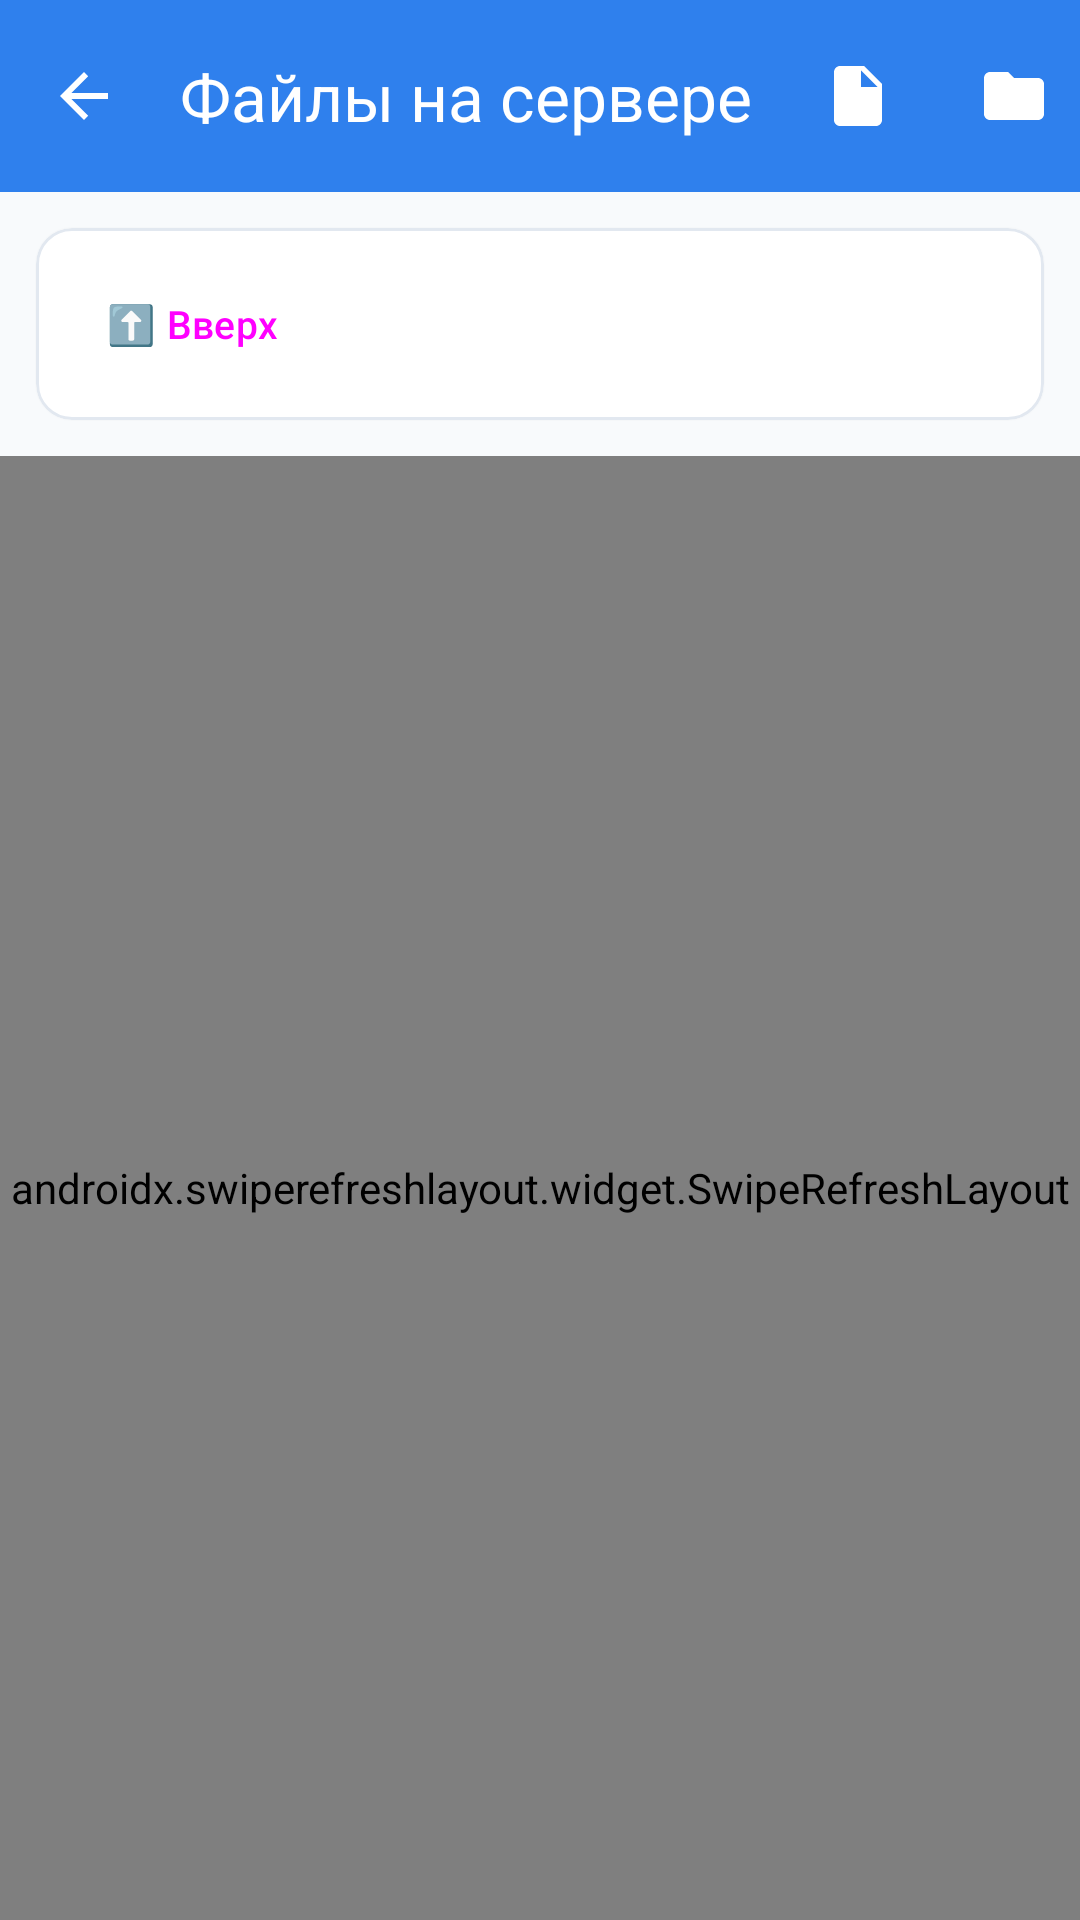

Where icons sit on this 1080px x 1920px app screen, as (x1, y1, x2, y2):
Папка обмена: (984, 72, 1044, 120)
